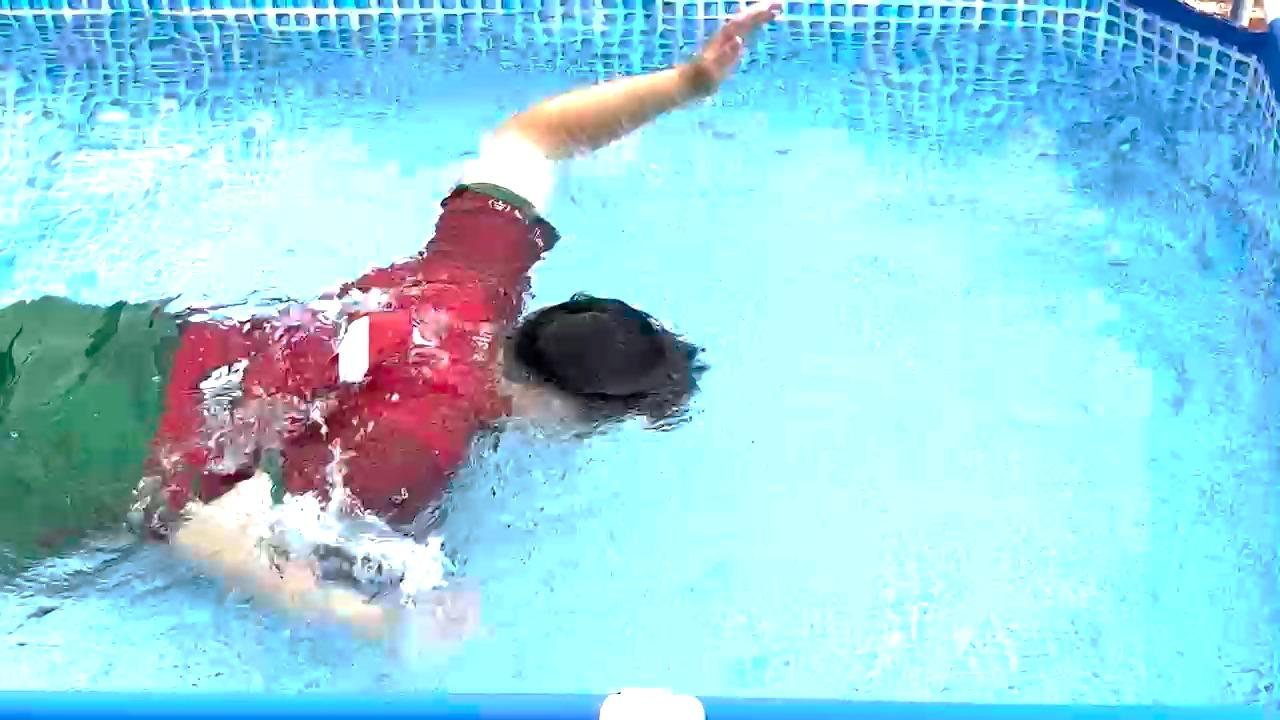Drowning: (0, 6, 871, 693)
